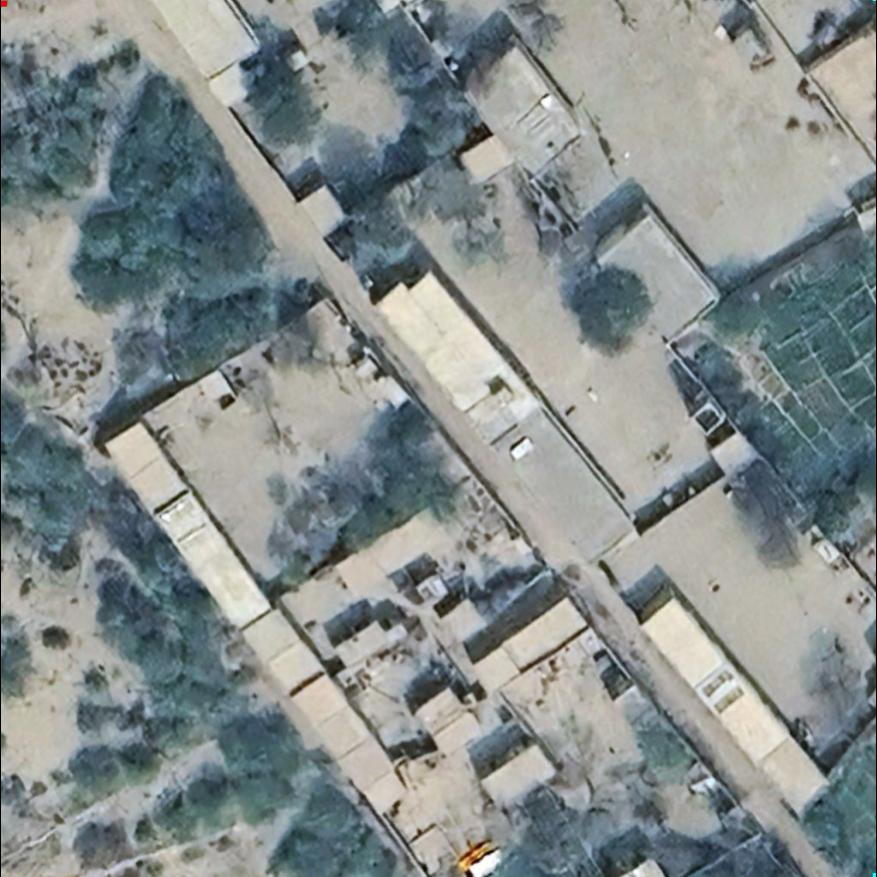Solarpanel: (712, 679, 752, 719), (695, 663, 737, 701)
